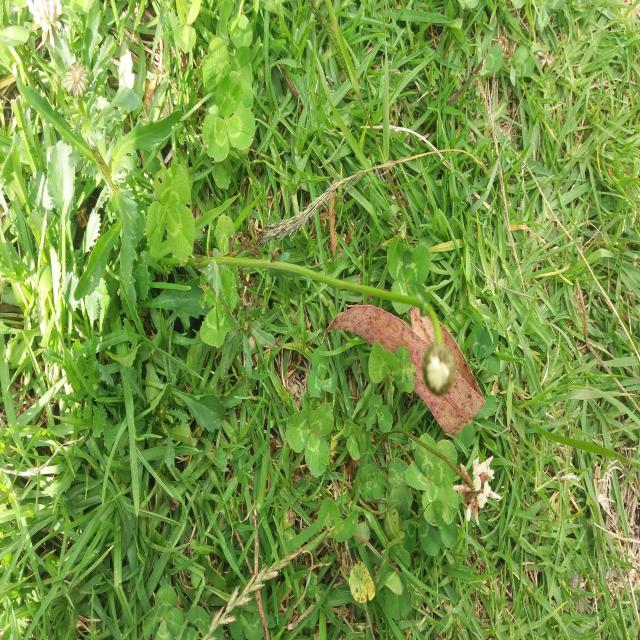Four Leaf Clover: (406, 433, 458, 527), (413, 248, 433, 276)
